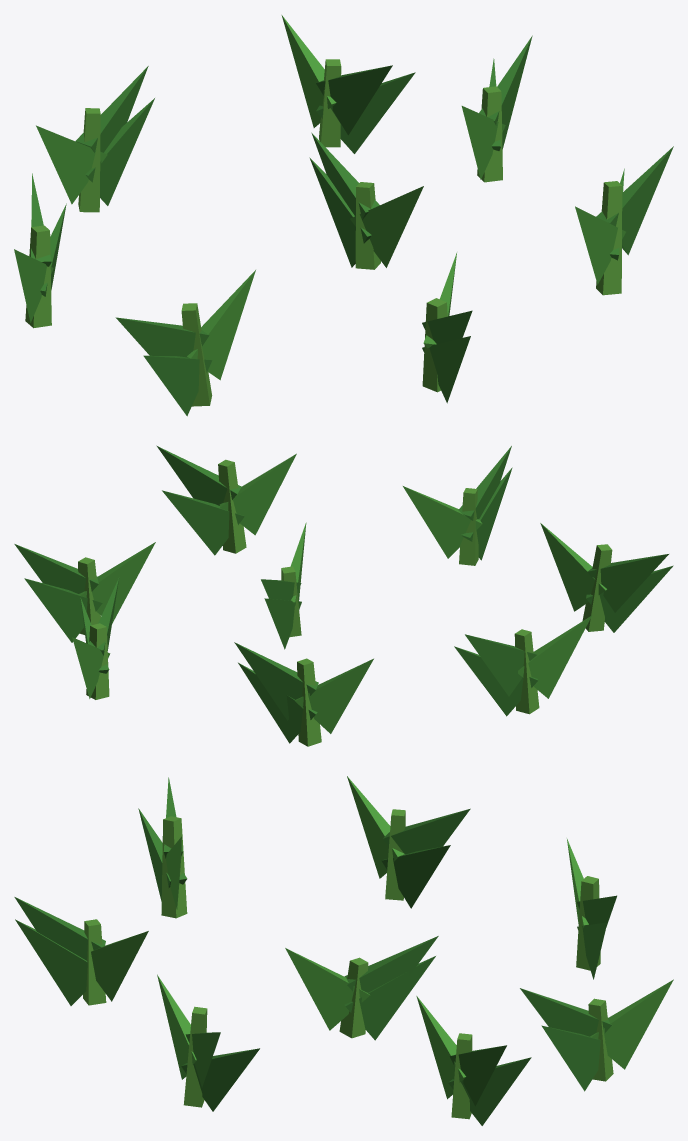
File: flowers-harvested.glb
The picture shows the model from 3 angles, top to bottom: view 1: azimuth 30°, elevation 25°; view 2: azimuth 150°, elevation 25°; view 3: azimuth 270°, elevation 25°; orthographic projection. The views are drawn at different scales.
Parts seen in each view (by area): view 1: flowers-harvested; view 2: flowers-harvested; view 3: flowers-harvested.
Part boxes in pixels (box(x1,y1,x2,y2)): flowers-harvested: box(14, 15, 673, 416); flowers-harvested: box(14, 445, 673, 746); flowers-harvested: box(14, 776, 673, 1125).
Size of the model in its own units: 0.6897 by 0.1365 by 0.7086.
1 material, 1 textured.
